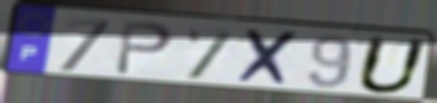7: (183, 24, 236, 82), (59, 16, 112, 73)
9: (305, 33, 353, 91)
P: (112, 19, 176, 78)
U: (352, 34, 432, 96)
X: (235, 27, 303, 89)
